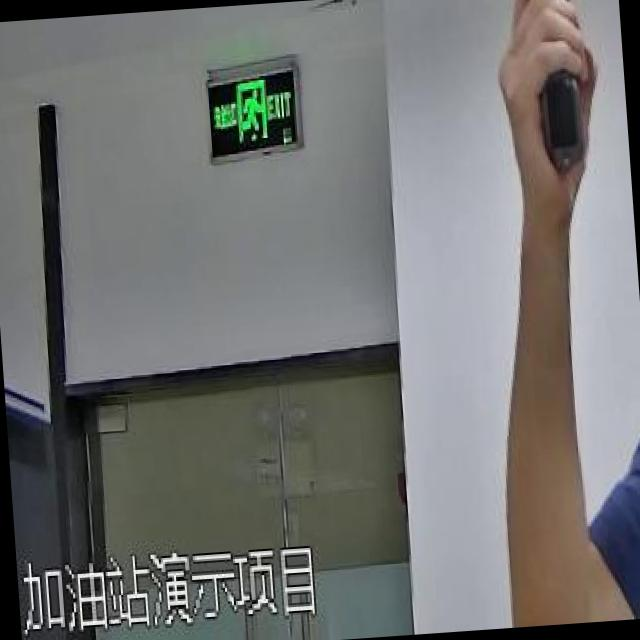Guns: (489, 0, 628, 201)
